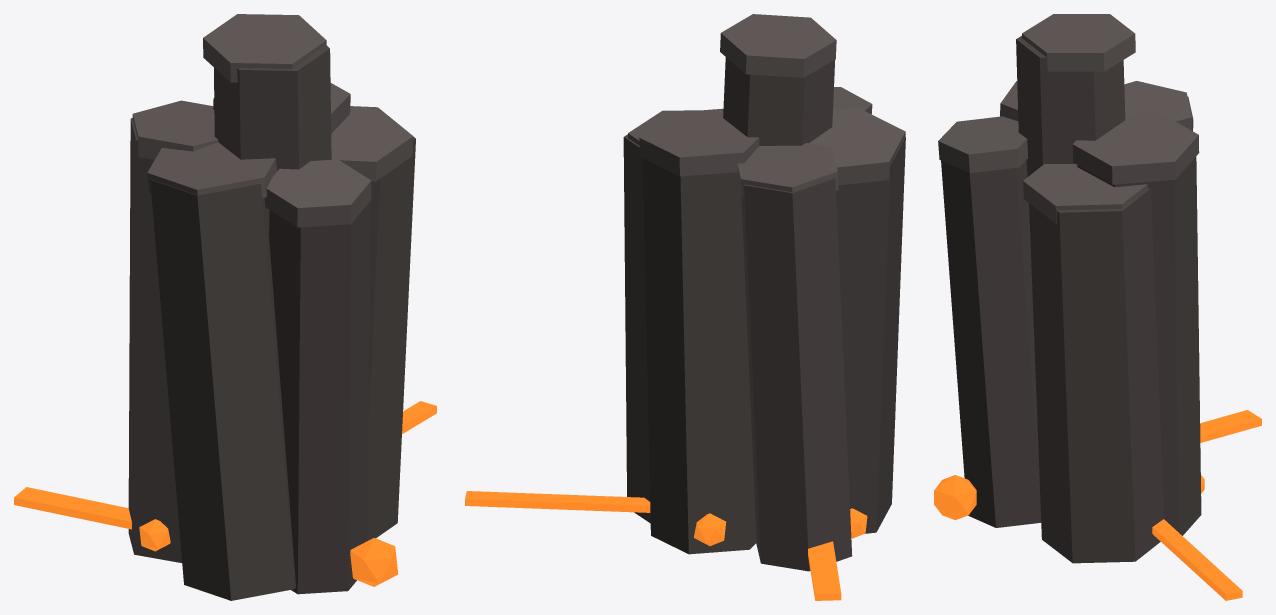
Rendered from runtime.glb.
The picture shows the model from 3 angles, left to right: view 1: azimuth 30°, elevation 25°; view 2: azimuth 150°, elevation 25°; view 3: azimuth 270°, elevation 25°; orthographic projection. The views are drawn at different scales.
Visible parts, largest first — view 1: magma_outcrop_basalt_nocol, magma_outcrop_cap_noshadow_nocol, magma_outcrop_lava_noshadow_nocol; view 2: magma_outcrop_basalt_nocol, magma_outcrop_cap_noshadow_nocol, magma_outcrop_lava_noshadow_nocol; view 3: magma_outcrop_basalt_nocol, magma_outcrop_cap_noshadow_nocol, magma_outcrop_lava_noshadow_nocol.
Boxes of the visible parts, x1,y1,x2,y2 form: magma_outcrop_basalt_nocol: (128,45,415,600); magma_outcrop_cap_noshadow_nocol: (132,14,413,227); magma_outcrop_lava_noshadow_nocol: (14,401,436,586); magma_outcrop_basalt_nocol: (623,57,905,571); magma_outcrop_cap_noshadow_nocol: (628,14,905,198); magma_outcrop_lava_noshadow_nocol: (465,491,867,600); magma_outcrop_basalt_nocol: (941,36,1201,563); magma_outcrop_cap_noshadow_nocol: (938,14,1199,224); magma_outcrop_lava_noshadow_nocol: (934,410,1261,600).
Bounding box in the file's own units: 3.42 × 4.11 × 2.57.
